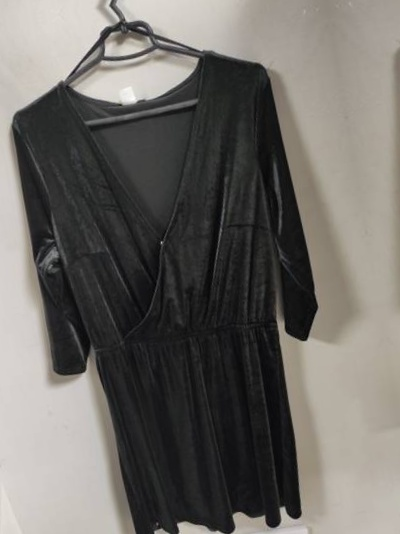Dress: (0, 24, 374, 534), (366, 0, 400, 479)
